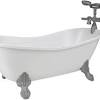bathub: (1, 26, 100, 100)
